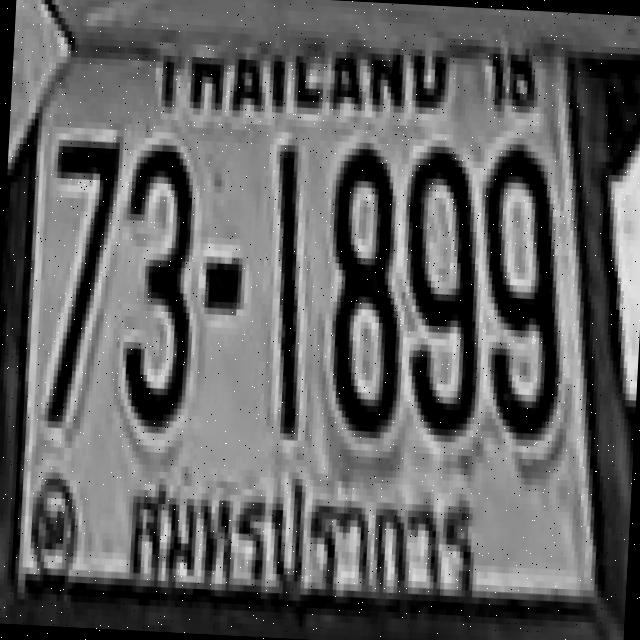1: (264, 138, 308, 434)
3: (115, 140, 198, 425)
7: (41, 134, 120, 418)
8: (320, 142, 406, 432)
9: (472, 140, 569, 438), (395, 142, 485, 434)
SamutPrakan: (119, 454, 492, 624)
